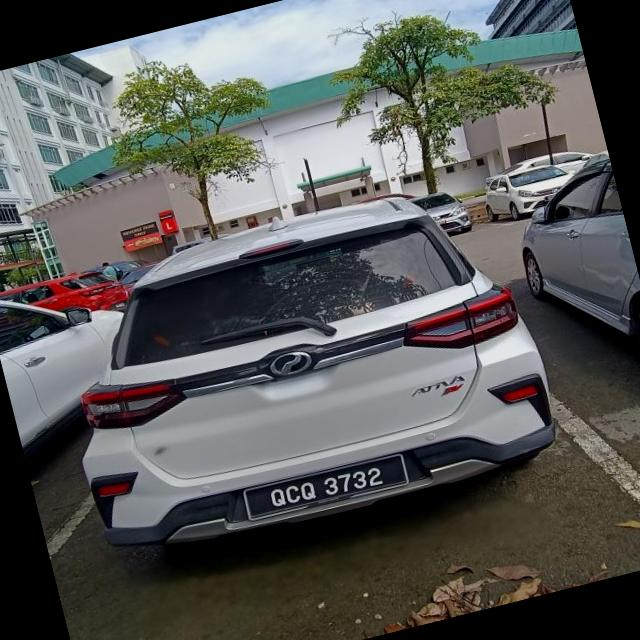PeroduaAtiva: (34, 160, 568, 572)
